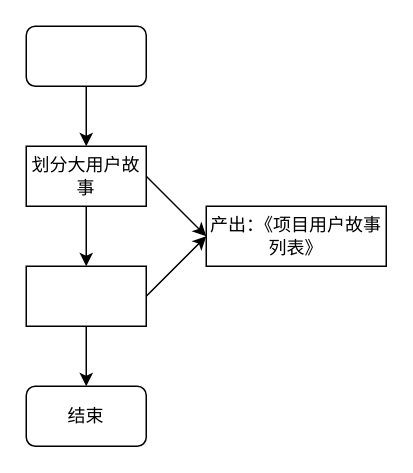
The diagram is 413 pixels wide and 473 high, and some of its shapes have lost their labels. Each missing label, with the centre of its shape:
"划分小用户故事" goes at point 85,295.
"开始" goes at point 85,55.
